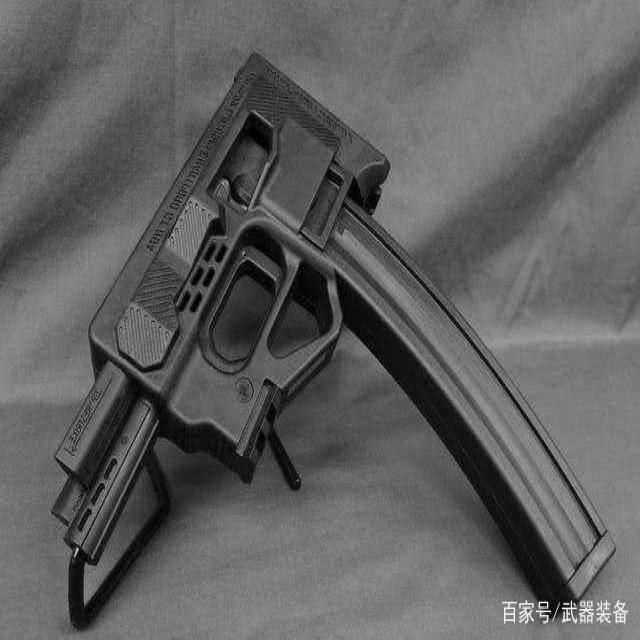gun: (50, 49, 615, 628)
